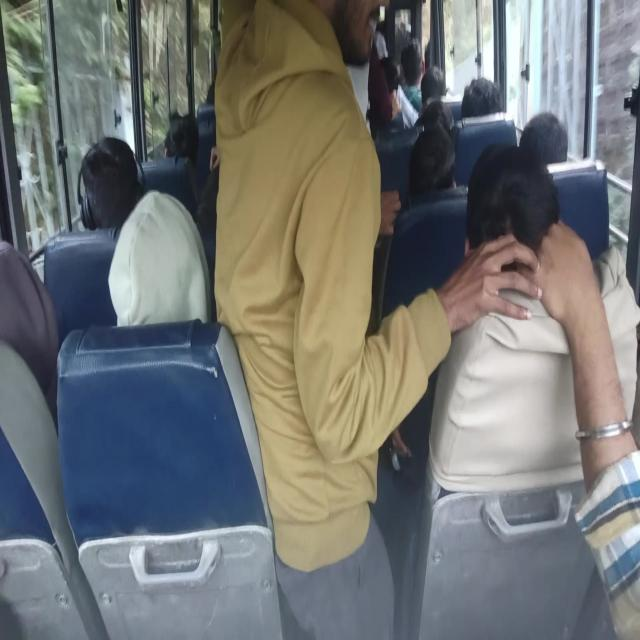person: (211, 0, 370, 252), (120, 203, 193, 321), (470, 147, 550, 254), (76, 127, 136, 215), (515, 111, 578, 172), (0, 265, 45, 348), (406, 124, 456, 189), (457, 60, 500, 126), (164, 106, 198, 173), (416, 58, 454, 108), (420, 96, 454, 140), (366, 64, 400, 103), (406, 38, 434, 73)
